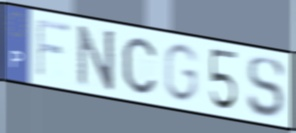5: (208, 46, 240, 112)
C: (120, 35, 158, 96)
F: (35, 16, 73, 80)
G: (162, 41, 201, 105)
N: (76, 23, 116, 93)
S: (245, 56, 287, 120)
